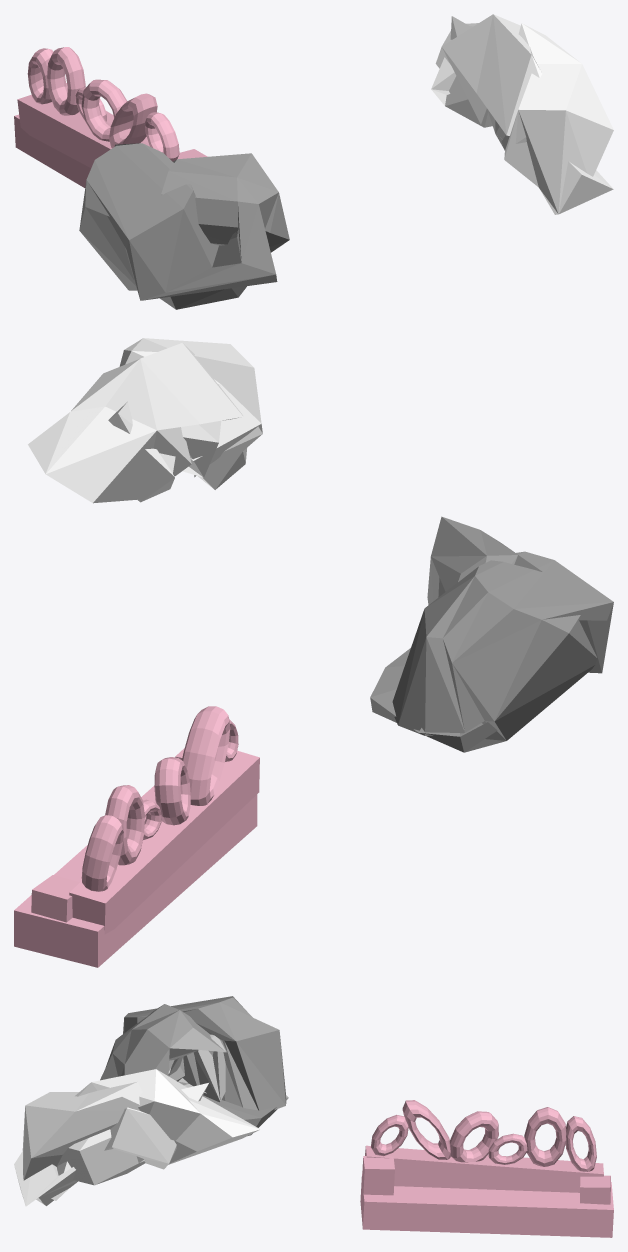
Rendered from modelC.fbx.
3 views of the same model, one above another, from view 1: azimuth 30°, elevation 25°; view 2: azimuth 150°, elevation 25°; view 3: azimuth 270°, elevation 25° (orthographic). The views are drawn at different scales.
Visible parts, largest first — view 1: group_1407996034, group_690573934, mesh_997983099, mesh_32685562, mesh_795516396, mesh_249111936, mesh_250445496, mesh_1115652965, mesh_438409493; view 2: group_1407996034, group_690573934, mesh_997983099, mesh_795516396, mesh_249111936, mesh_438409493, mesh_250445496, mesh_32685562, mesh_1601070232; view 3: group_690573934, group_1407996034, mesh_795516396, mesh_997983099, mesh_250445496, mesh_32685562, mesh_249111936, mesh_672843478, mesh_438409493, mesh_1115652965, mesh_1601070232, mesh_18155240.
Part boxes in pixels (<box>): group_1407996034: <box>79,143,289,309</box>; group_690573934: <box>431,14,613,214</box>; mesh_997983099: <box>17,94,149,167</box>; mesh_32685562: <box>47,47,85,115</box>; mesh_795516396: <box>14,111,148,187</box>; mesh_249111936: <box>109,93,157,148</box>; mesh_250445496: <box>81,79,126,141</box>; mesh_1115652965: <box>144,112,179,161</box>; mesh_438409493: <box>27,48,53,104</box>; group_1407996034: <box>370,516,613,752</box>; group_690573934: <box>28,338,262,503</box>; mesh_997983099: <box>69,750,259,934</box>; mesh_795516396: <box>14,786,257,967</box>; mesh_249111936: <box>182,706,230,805</box>; mesh_438409493: <box>81,815,123,891</box>; mesh_250445496: <box>154,757,190,825</box>; mesh_32685562: <box>105,785,144,865</box>; mesh_1601070232: <box>31,875,79,922</box>; group_690573934: <box>14,1069,260,1206</box>; group_1407996034: <box>100,996,288,1135</box>; mesh_795516396: <box>360,1174,613,1237</box>; mesh_997983099: <box>365,1145,603,1192</box>; mesh_250445496: <box>449,1111,498,1162</box>; mesh_32685562: <box>524,1107,566,1166</box>; mesh_249111936: <box>402,1100,450,1159</box>; mesh_672843478: <box>362,1156,394,1195</box>; mesh_438409493: <box>565,1116,596,1171</box>; mesh_1115652965: <box>371,1114,408,1156</box>; mesh_1601070232: <box>580,1175,610,1204</box>; mesh_18155240: <box>488,1133,527,1164</box>.
Size of the model in its own units: 117 by 68.71 by 158.
